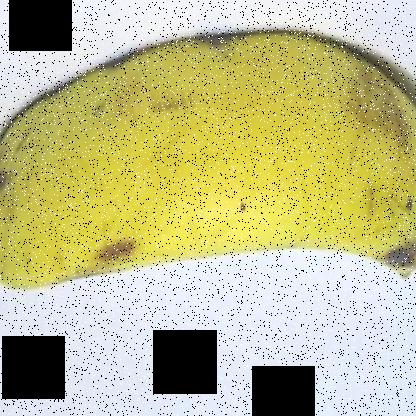freshripe: (0, 7, 415, 328)
